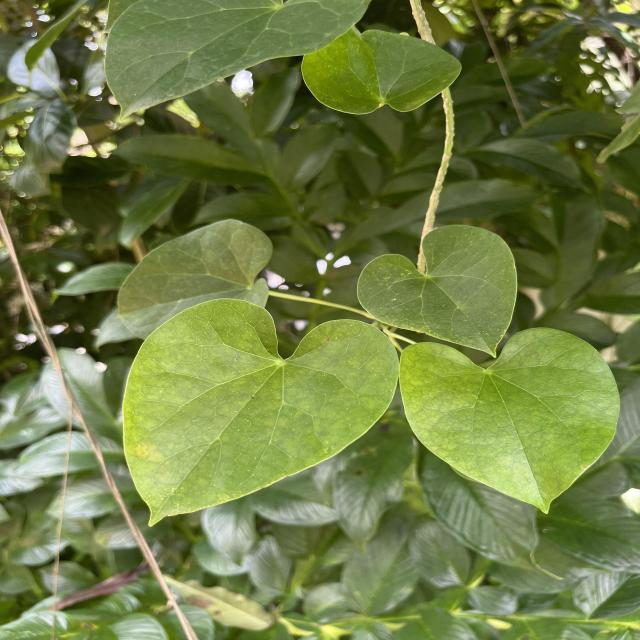Tinospora cordifolia: (116, 294, 402, 532), (398, 322, 624, 518), (352, 220, 522, 362)
